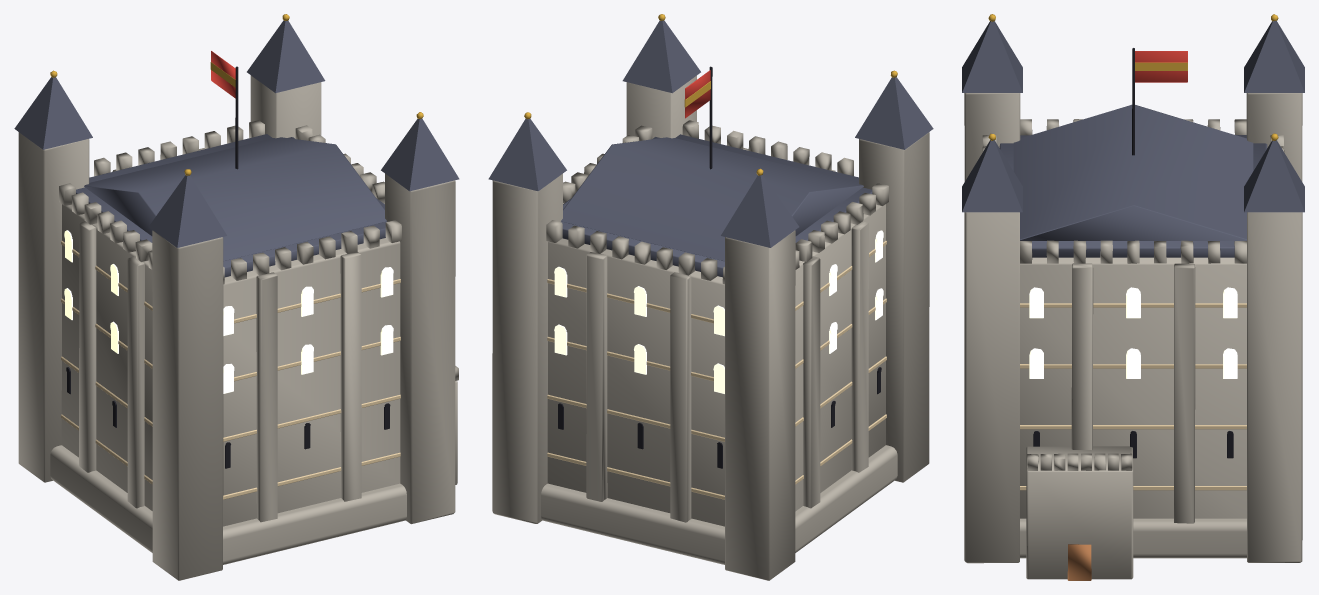
File: castle_keep.glb
3 views of the same model, side by side, from view 1: azimuth 30°, elevation 25°; view 2: azimuth 150°, elevation 25°; view 3: azimuth 270°, elevation 25° (orthographic). The views are drawn at different scales.
Parts seen in each view (by area): view 1: castle_keep; view 2: castle_keep; view 3: castle_keep.
Part boxes in pixels (x1,y1,x2,y2): castle_keep: (14,14,459,580); castle_keep: (488,14,933,580); castle_keep: (962,14,1304,580).
Bounding box in the file's own units: 28.32 × 36.5 × 25.52.
Materials: 1 (1 with a texture image).
